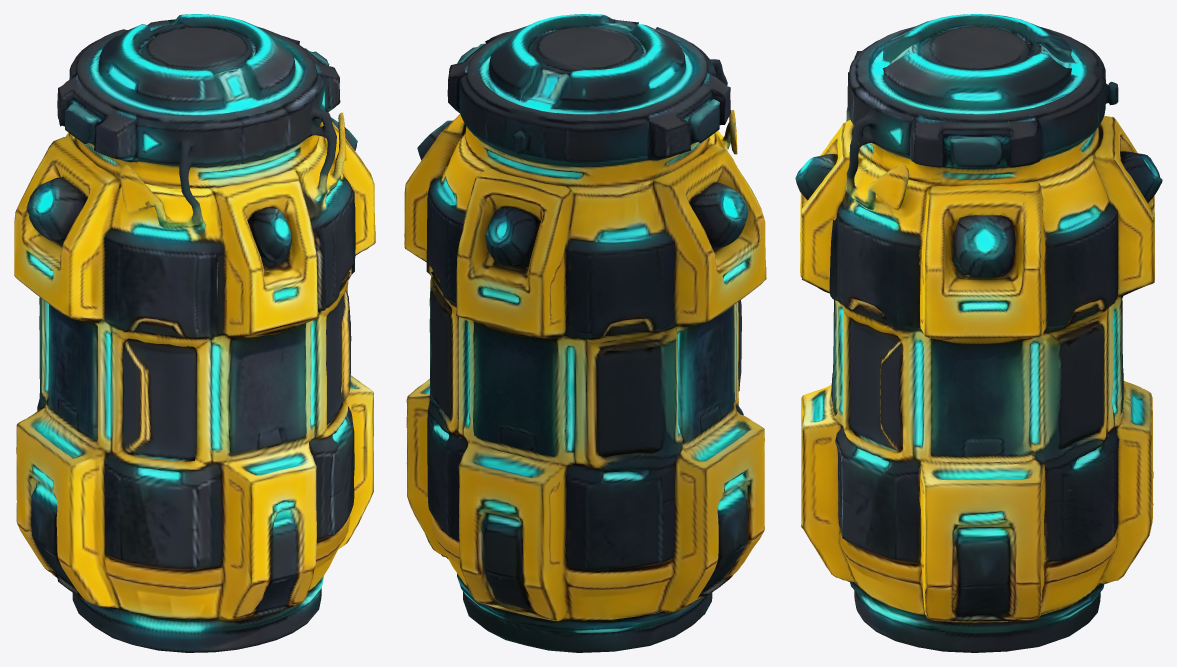
Rendered from lod_granade_2.fbx.
3 views of the same model, side by side, from view 1: azimuth 30°, elevation 25°; view 2: azimuth 150°, elevation 25°; view 3: azimuth 270°, elevation 25° (orthographic).
Visible parts, largest first — view 1: model_LOD0; view 2: model_LOD0; view 3: model_LOD0.
Boxes of the visible parts, left/top/right/bottom form: model_LOD0: left=14, top=14, right=375, bottom=652; model_LOD0: left=404, top=14, right=766, bottom=652; model_LOD0: left=795, top=14, right=1162, bottom=652.
Size of what is drawn, in the model's own units: 113 by 190 by 111.
